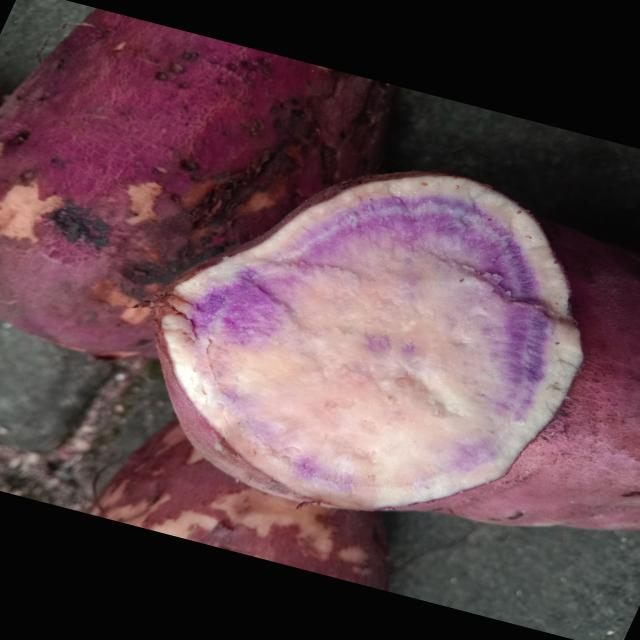Healthy Sweet Potato: (158, 174, 582, 509)
